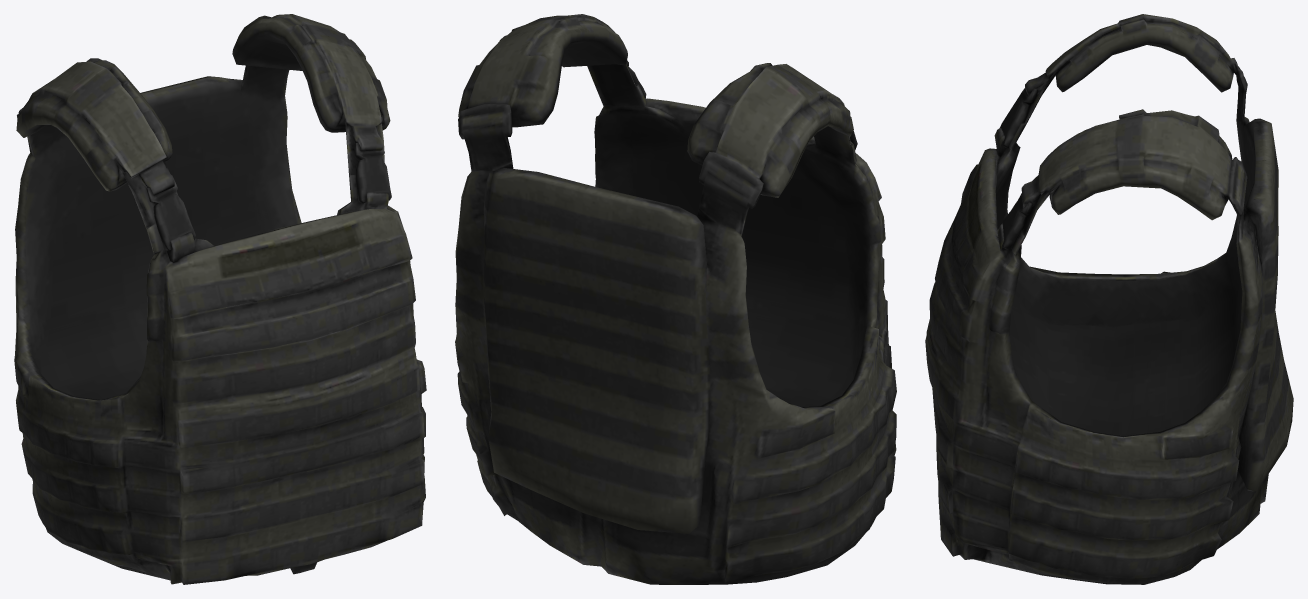
The model's file is vest1.fbx.
3 renders of one model, left to right at view 1: azimuth 30°, elevation 25°; view 2: azimuth 150°, elevation 25°; view 3: azimuth 270°, elevation 25°, orthographic. The views are drawn at different scales.
Parts seen in each view (by area): view 1: Vest; view 2: Vest; view 3: Vest.
Part boxes in pixels (x1=…): Vest: x1=14, y1=14, x2=426, y2=584; Vest: x1=455, y1=14, x2=896, y2=584; Vest: x1=925, y1=14, x2=1293, y2=584.
Size of the model in its own units: 45.13 by 55.93 by 41.17.
